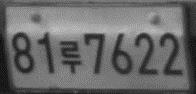1: (37, 32, 55, 76)
2: (158, 32, 185, 76), (134, 32, 160, 76)
6: (111, 30, 133, 76)
7: (81, 31, 106, 75)
8: (11, 32, 35, 75)
루: (58, 39, 82, 74)
